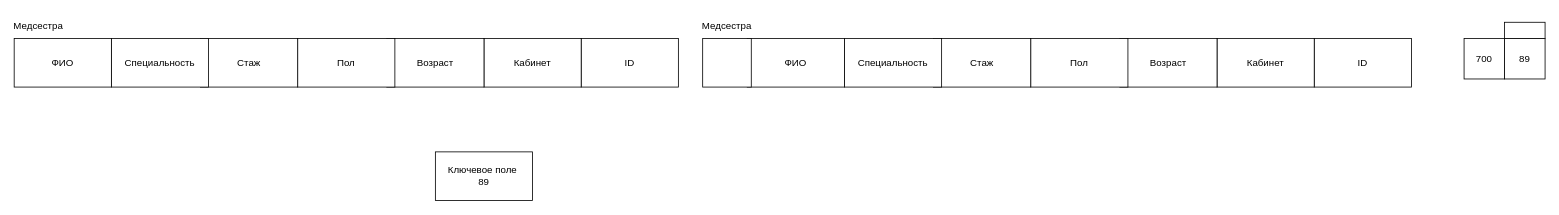
The diagram is 1559 pixels wide and 215 high, and some of its shapes have lost their labels. The shapes that lost their labels are listed below. From the top down, each one's centre as x and y in pixels, then its label:
[1524,29]: Ключ номер
[726,62]: Номер ячейки 700
